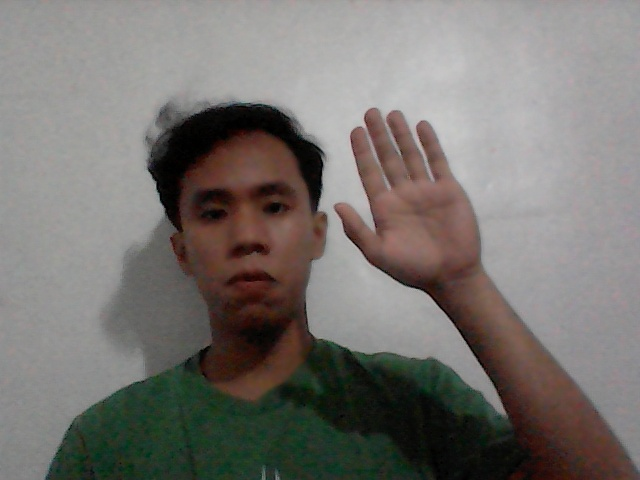Hello: (314, 96, 505, 310)
